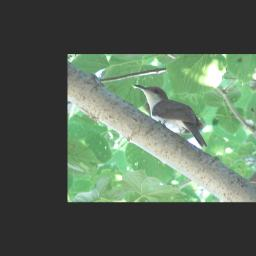Cuckoo: (132, 84, 209, 149)
